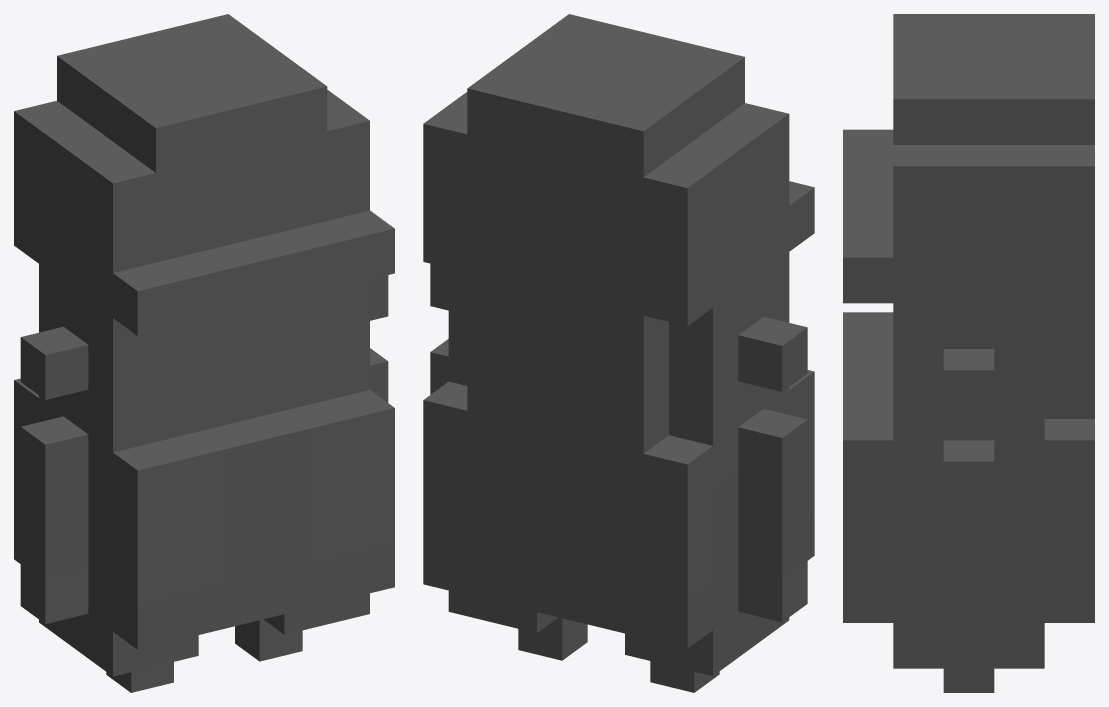
File: chr_worker1.obj
3 renders of one model, left to right at view 1: azimuth 30°, elevation 25°; view 2: azimuth 150°, elevation 25°; view 3: azimuth 270°, elevation 25°, orthographic. The views are drawn at different scales.
Bounding box in the file's own units: 8 × 13 × 5.
